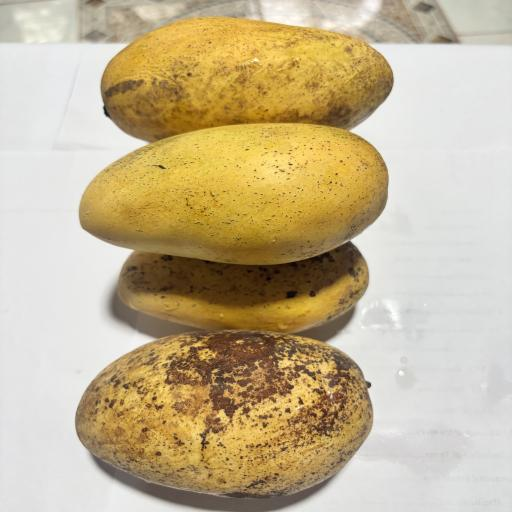fruit: (60, 329, 410, 512), (76, 121, 402, 268), (84, 10, 406, 146), (104, 227, 384, 344)
